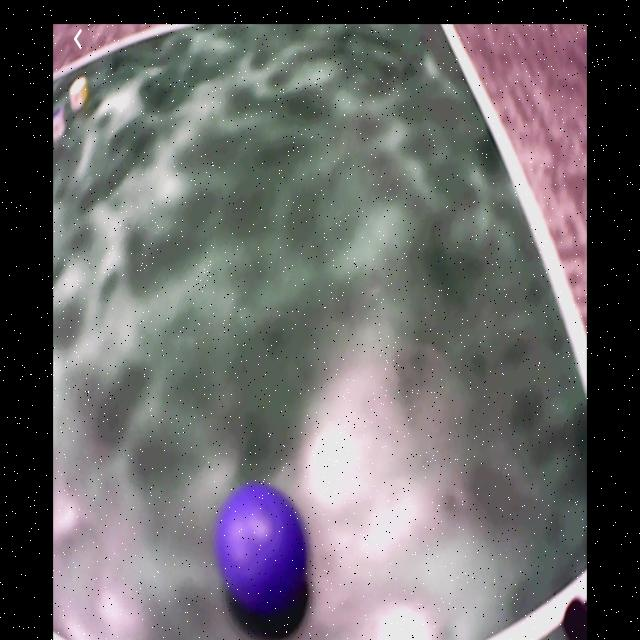ball: (215, 486, 307, 622)
